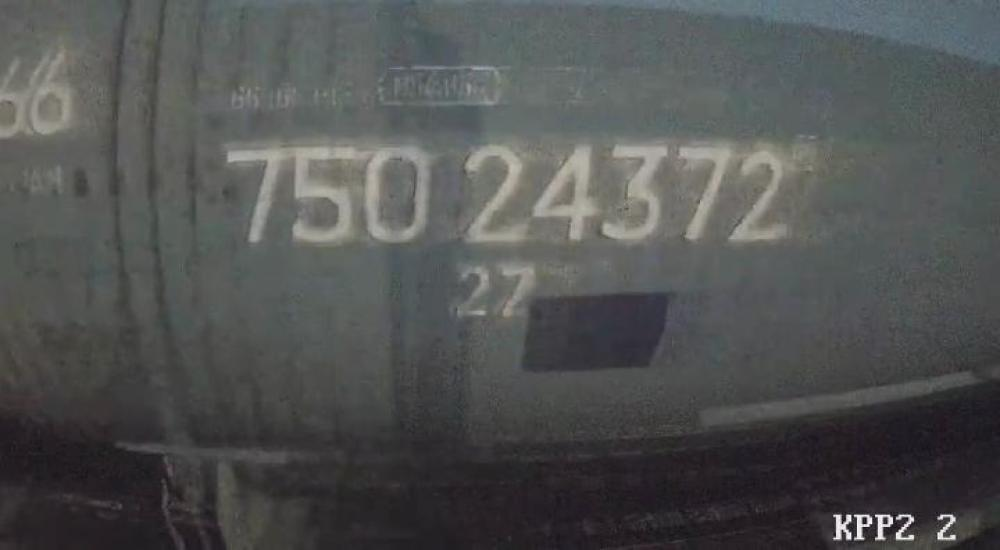Wagon-number: (221, 137, 783, 251)
